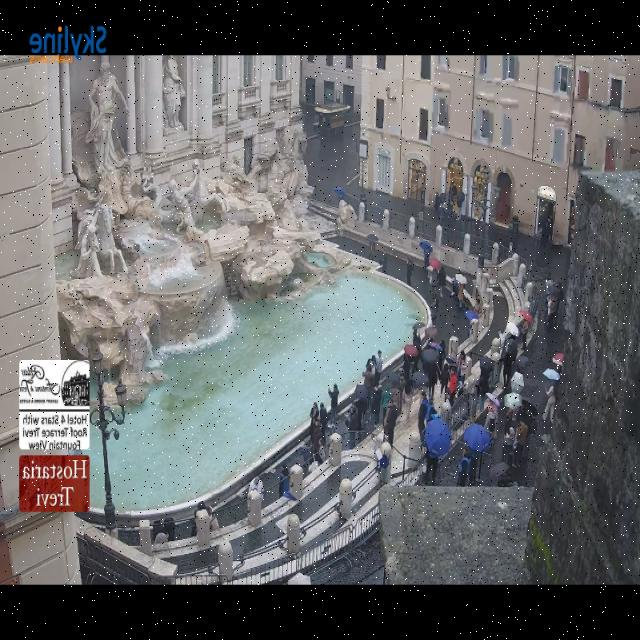person: (538, 200, 552, 248), (513, 420, 527, 467), (190, 502, 207, 536), (384, 402, 397, 445), (347, 400, 358, 448), (279, 464, 294, 499), (417, 391, 427, 442), (542, 384, 555, 423), (503, 426, 515, 467), (457, 448, 469, 487), (310, 422, 321, 464), (554, 282, 564, 324), (380, 385, 391, 423), (362, 360, 372, 401), (425, 451, 437, 485), (477, 375, 488, 412), (371, 385, 381, 425), (328, 384, 338, 424), (403, 380, 412, 423), (468, 450, 479, 485), (427, 364, 438, 398), (469, 380, 478, 419), (318, 403, 327, 442), (152, 520, 167, 543), (456, 350, 465, 388), (356, 399, 367, 430), (412, 330, 420, 372), (248, 477, 263, 499), (308, 403, 318, 435), (484, 403, 495, 432), (433, 192, 444, 221), (448, 369, 457, 404), (502, 353, 511, 388), (440, 363, 449, 397), (402, 355, 411, 389), (426, 399, 439, 422), (547, 295, 556, 328), (279, 464, 288, 497), (440, 393, 450, 422), (437, 265, 446, 297), (164, 516, 175, 542), (207, 506, 218, 531), (437, 339, 445, 371), (540, 212, 547, 248), (504, 409, 513, 436), (446, 185, 454, 215), (370, 355, 377, 389), (375, 350, 382, 384), (456, 190, 464, 219), (423, 243, 431, 272), (429, 268, 437, 296), (449, 185, 456, 216), (520, 319, 527, 350), (555, 365, 561, 401), (151, 520, 162, 539), (546, 213, 553, 242), (545, 272, 553, 297), (391, 388, 400, 410), (431, 297, 438, 325), (451, 272, 459, 296), (190, 510, 197, 537), (406, 257, 412, 287), (472, 298, 481, 317), (153, 531, 167, 543), (546, 295, 551, 328), (380, 251, 387, 274), (370, 355, 375, 385), (457, 284, 463, 309), (515, 360, 523, 375), (196, 502, 207, 511), (364, 358, 371, 371), (368, 242, 373, 259), (423, 251, 427, 272)
